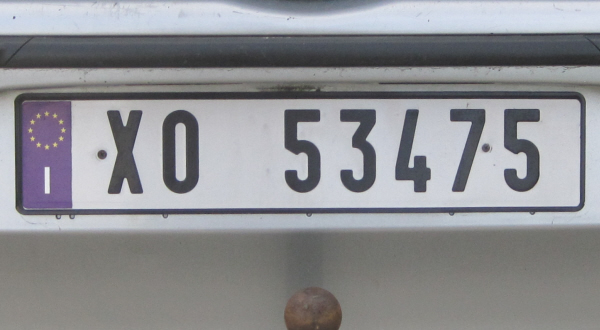license_plate: (16, 95, 585, 211)
